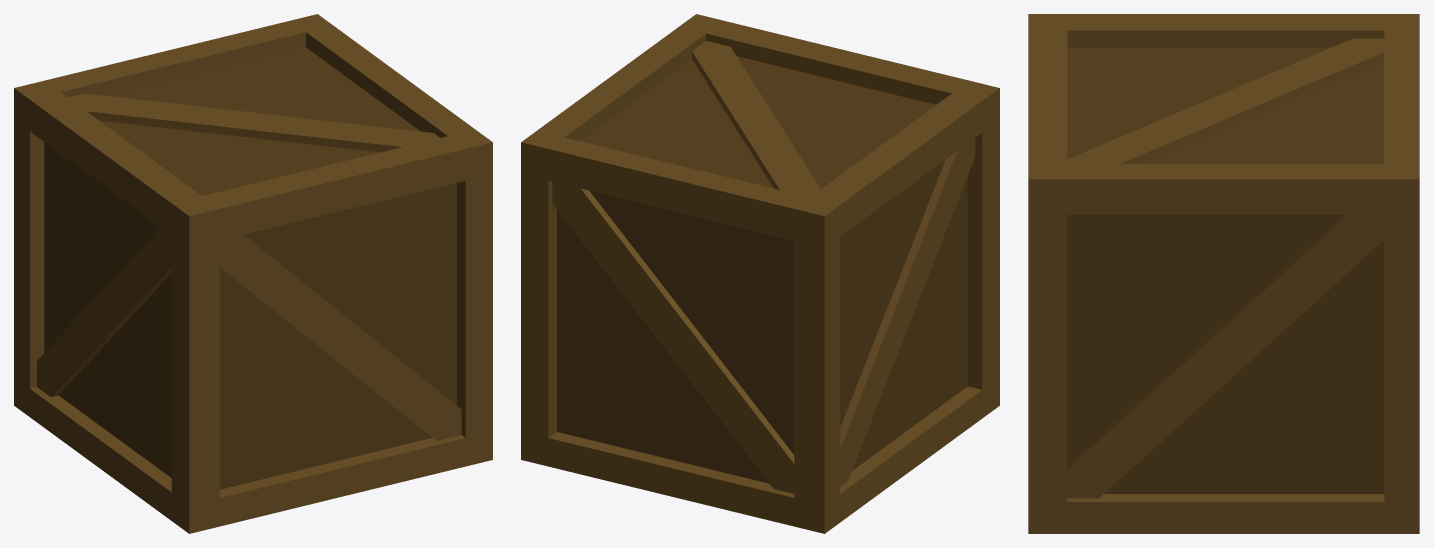
The model's file is Crate.fbx.
3 views of the same model, side by side, from view 1: azimuth 30°, elevation 25°; view 2: azimuth 150°, elevation 25°; view 3: azimuth 270°, elevation 25° (orthographic). The views are drawn at different scales.
Visible parts, largest first — view 1: pCube1; view 2: pCube1; view 3: pCube1.
Boxes of the visible parts, box(x1,y1,x2,y2) form: pCube1: box(14, 14, 492, 533); pCube1: box(521, 14, 999, 533); pCube1: box(1028, 14, 1419, 533).
Bounding box in the file's own units: 100 × 100 × 100.
